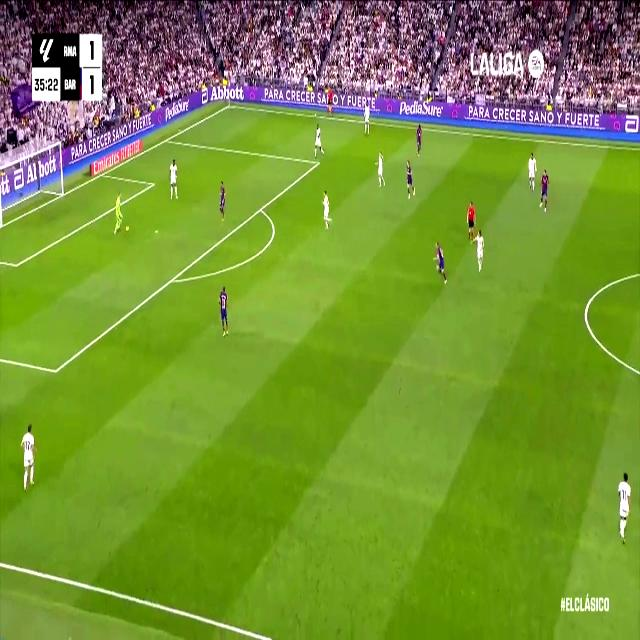bigarea_bottom_inner: (50, 358, 60, 382)
bigarea_top_outter: (163, 133, 171, 145)
bottom_arc_area_intersection: (168, 269, 177, 288)
corner: (225, 100, 233, 110)
smallarea_bottom_inner: (12, 255, 21, 274)
smallarea_top_inner: (150, 179, 155, 189)
top_arc_area_intersection: (257, 201, 264, 216)
